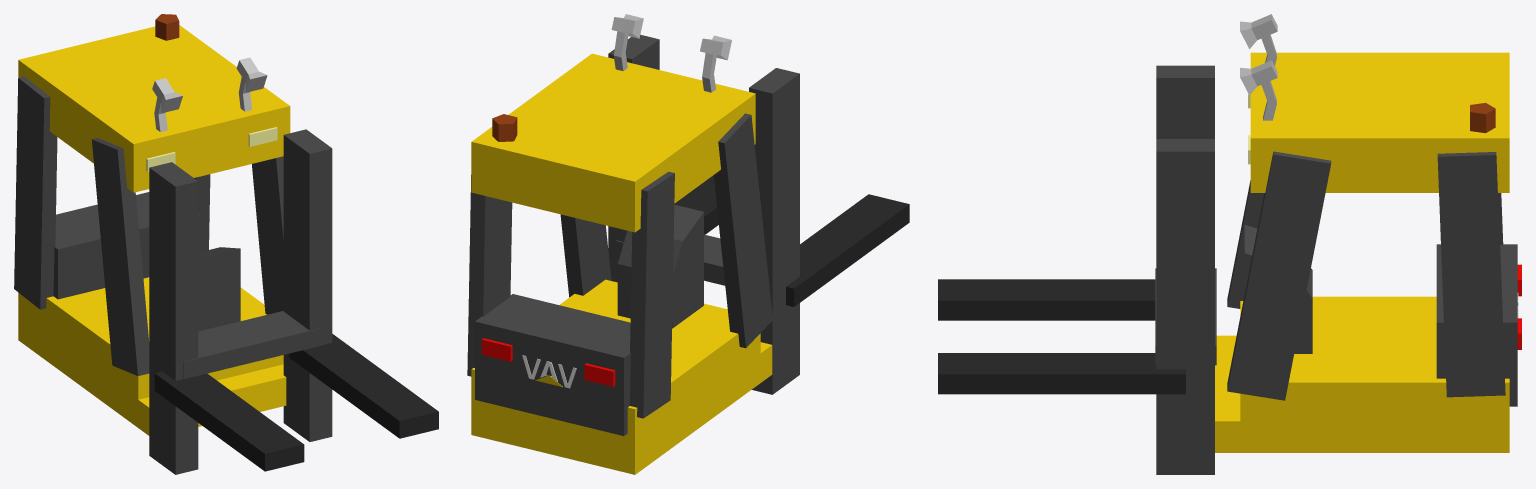
Rendered from ForkLift.fbx.
3 renders of one model, left to right at view 1: azimuth 30°, elevation 25°; view 2: azimuth 150°, elevation 25°; view 3: azimuth 270°, elevation 25°, orthographic. The views are drawn at different scales.
Visible parts, largest first — view 1: Cube; view 2: Cube; view 3: Cube.
Boxes of the visible parts, x1,y1,x2,y2 form: Cube: [14, 14, 438, 474]; Cube: [467, 14, 909, 474]; Cube: [938, 14, 1521, 474].
Bounding box in the file's own units: 199 × 383 × 517.
Materials: 4 (1 with a texture image).
